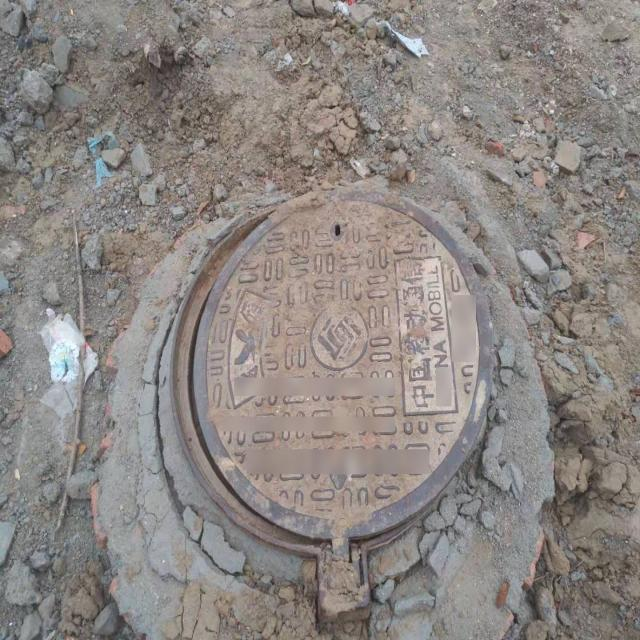Lose: (170, 183, 494, 626)
